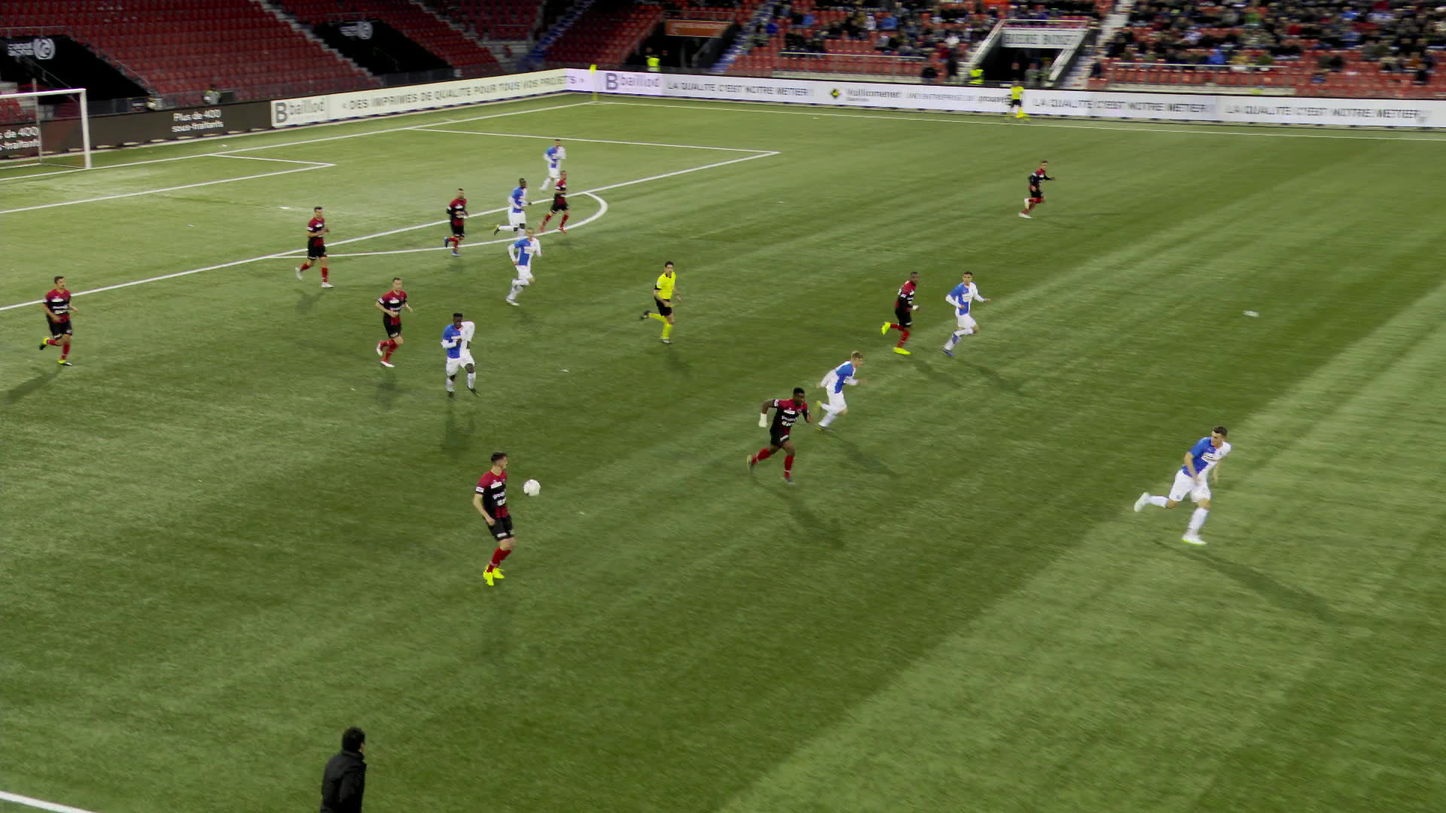ball: (521, 480, 539, 497)
player: (1146, 425, 1235, 550), (469, 454, 520, 591), (743, 389, 807, 486), (805, 352, 868, 432), (933, 271, 983, 360), (436, 312, 484, 403), (883, 272, 926, 356), (373, 275, 411, 367), (41, 272, 78, 364), (501, 226, 542, 305), (297, 209, 331, 290), (1011, 160, 1054, 220), (536, 170, 572, 235), (499, 178, 532, 239), (445, 187, 469, 257), (545, 143, 569, 202)
referee: (644, 262, 680, 345), (1006, 79, 1029, 120)
